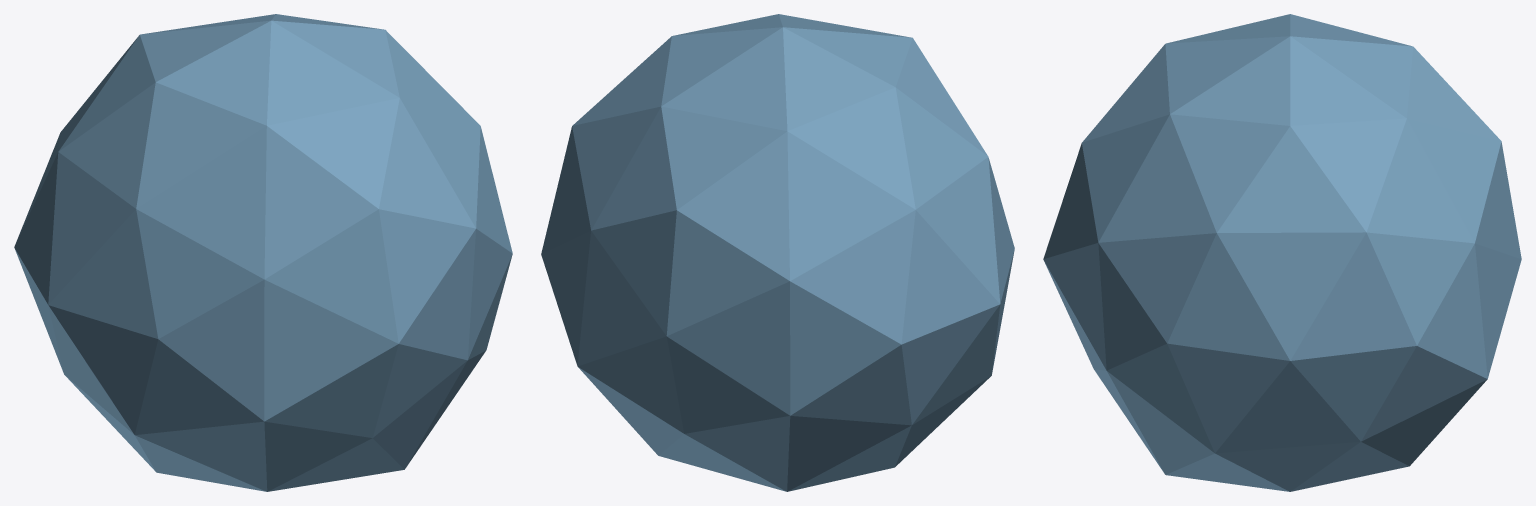
The model's file is bcan.obj.
3 views of the same model, side by side, from view 1: azimuth 30°, elevation 25°; view 2: azimuth 150°, elevation 25°; view 3: azimuth 270°, elevation 25° (orthographic). The views are drawn at different scales.
Visible parts, largest first — view 1: part0; view 2: part0; view 3: part0.
Boxes of the visible parts, x1=… form: part0: x1=14, y1=14, x2=512, y2=491; part0: x1=541, y1=14, x2=1014, y2=491; part0: x1=1043, y1=14, x2=1521, y2=491.
Size of the model in its own units: 0.534 by 0.526 by 0.521.
